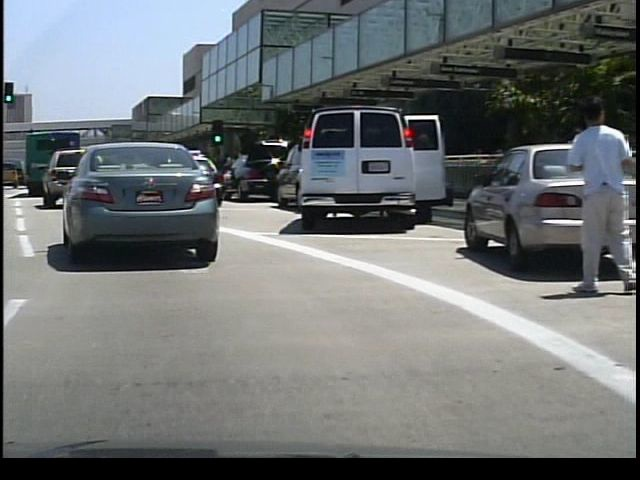person: (558, 91, 628, 297)
